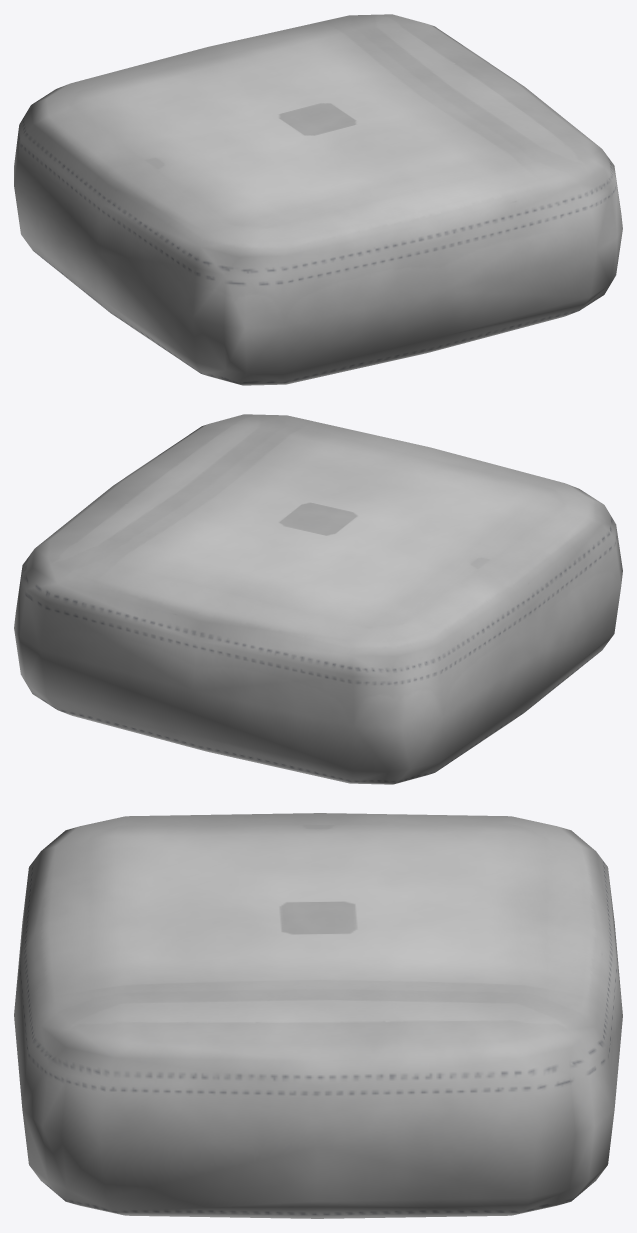
Rendered from RightLowerLeg_C1.fbx.
The picture shows the model from 3 angles, top to bottom: view 1: azimuth 30°, elevation 25°; view 2: azimuth 150°, elevation 25°; view 3: azimuth 270°, elevation 25°; orthographic projection. The views are drawn at different scales.
Parts seen in each view (by area): view 1: Civ_Bermuda_RightLowerLeg_C1; view 2: Civ_Bermuda_RightLowerLeg_C1; view 3: Civ_Bermuda_RightLowerLeg_C1.
Part boxes in pixels (x1=…): Civ_Bermuda_RightLowerLeg_C1: x1=14, y1=14, x2=622, y2=385; Civ_Bermuda_RightLowerLeg_C1: x1=14, y1=414, x2=622, y2=784; Civ_Bermuda_RightLowerLeg_C1: x1=14, y1=813, x2=622, y2=1218.
Bounding box in the file's own units: 1.31 × 0.4616 × 1.29.
